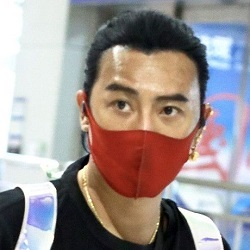mask: (76, 87, 201, 198)
